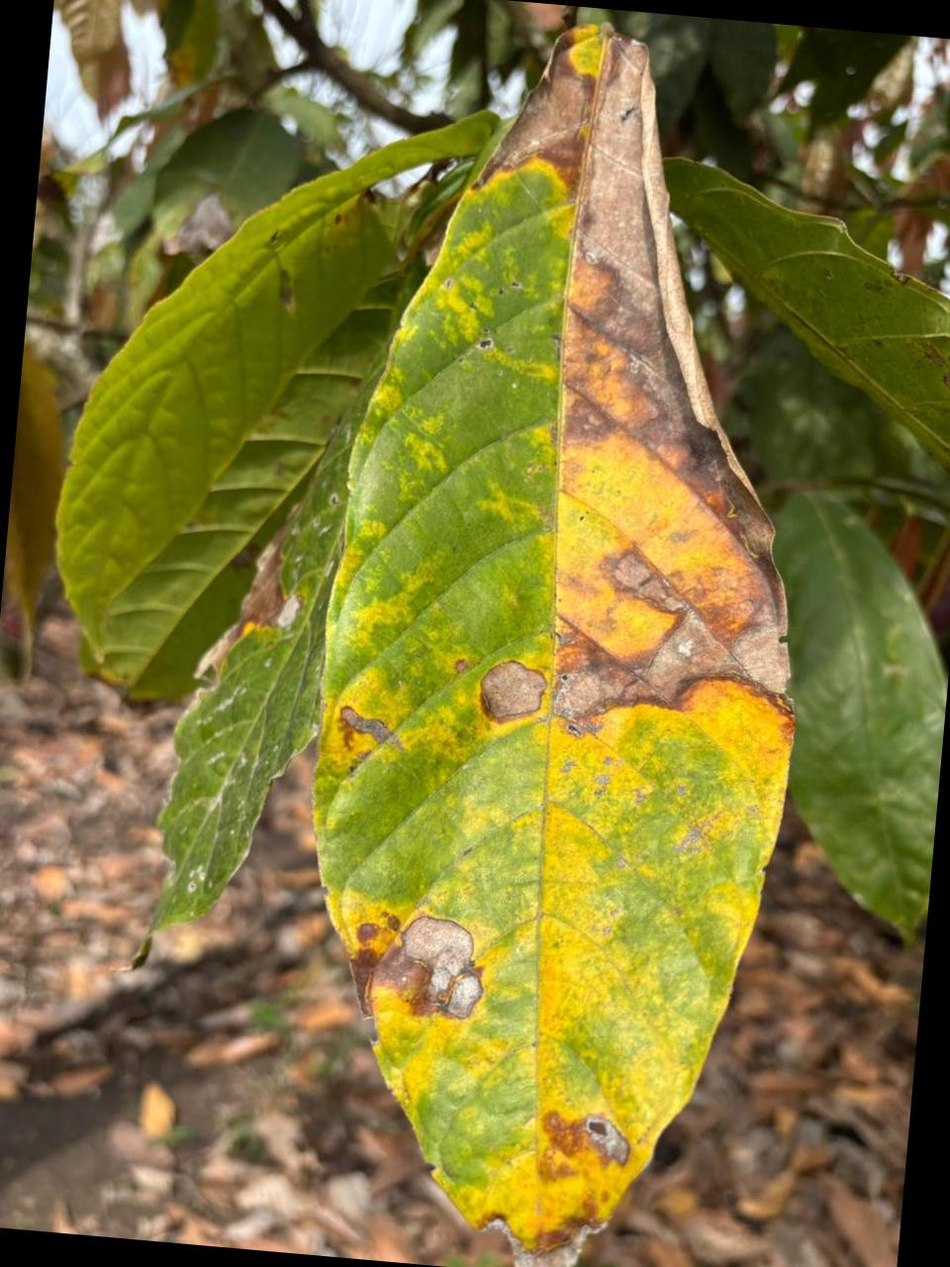Fosforo: (315, 27, 792, 1266)
